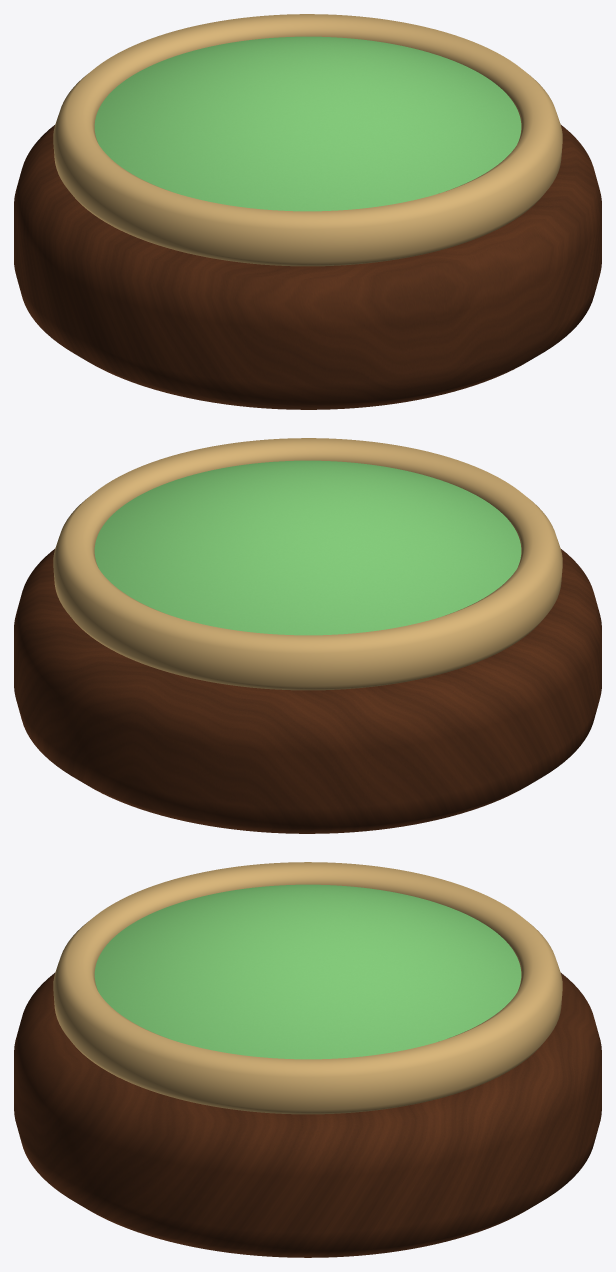
The model's file is lamp_round.glb.
3 renders of one model, top to bottom at view 1: azimuth 30°, elevation 25°; view 2: azimuth 150°, elevation 25°; view 3: azimuth 270°, elevation 25°, orthographic.
Visible parts, largest first — view 1: OakBase, FrostedLens, BrassBezel; view 2: OakBase, FrostedLens, BrassBezel; view 3: OakBase, FrostedLens, BrassBezel.
Boxes of the visible parts, x1,y1,x2,y2 form: OakBase: (14, 125, 601, 409); FrostedLens: (94, 36, 521, 211); BrassBezel: (53, 14, 562, 266); OakBase: (14, 549, 601, 833); FrostedLens: (94, 460, 521, 635); BrassBezel: (53, 438, 562, 690); OakBase: (14, 973, 601, 1257); FrostedLens: (94, 884, 521, 1059); BrassBezel: (53, 862, 562, 1114).
Bounding box in the file's own units: 0.048 × 0.0198 × 0.048.
3 materials, 2 textured.
